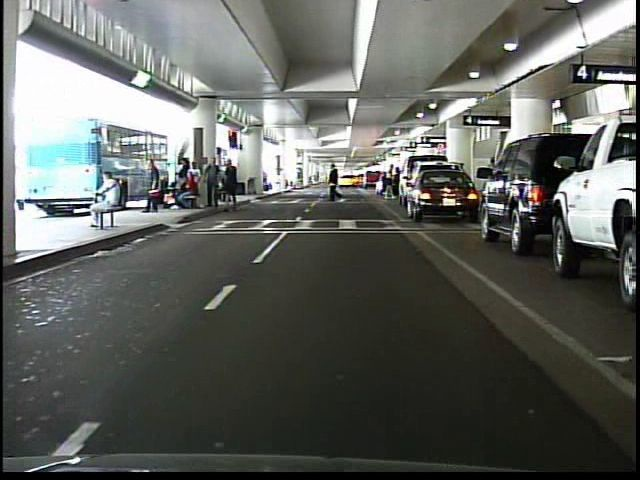person: (76, 165, 124, 233), (137, 154, 163, 216), (325, 162, 347, 207), (380, 161, 396, 198)
